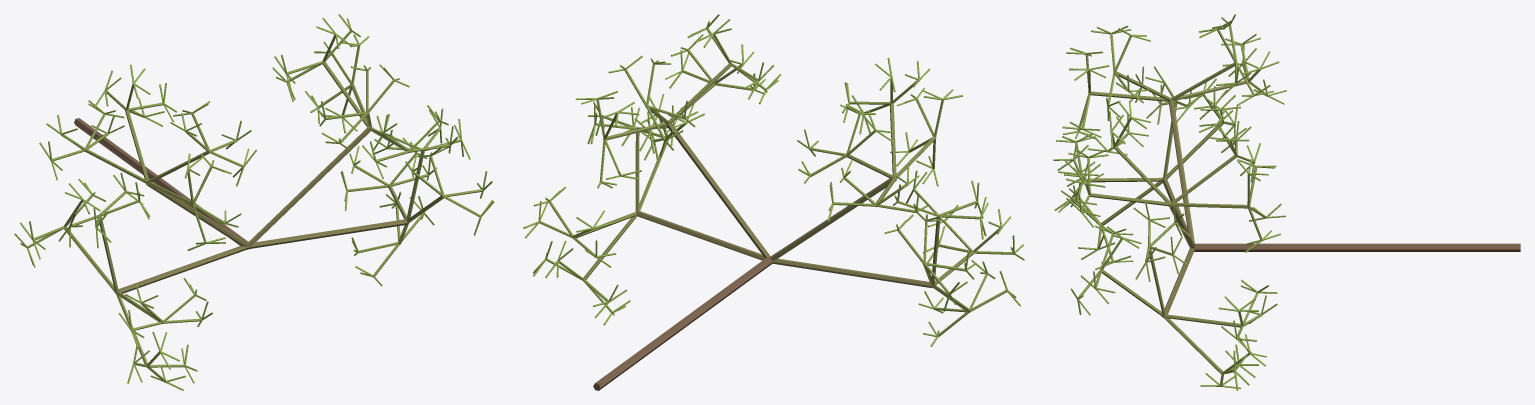
The model's file is dragon-blood-tree.glb.
3 renders of one model, left to right at view 1: azimuth 30°, elevation 25°; view 2: azimuth 150°, elevation 25°; view 3: azimuth 270°, elevation 25°, orthographic. The views are drawn at different scales.
Parts seen in each view (by area): view 1: world; view 2: world; view 3: world.
Part boxes in pixels (left/top/right/bottom): world: left=14, top=14, right=494, bottom=390; world: left=523, top=14, right=1024, bottom=390; world: left=1053, top=14, right=1520, bottom=390.
Bounding box in the file's own units: 11.44 × 6.99 × 11.41.
